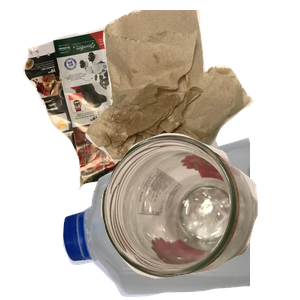glass: (98, 131, 300, 300)
paper: (20, 10, 231, 190)
plastic: (60, 135, 300, 300)
trash: (83, 10, 300, 163)
